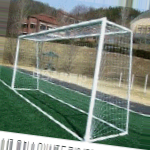goals: (10, 16, 133, 141)
